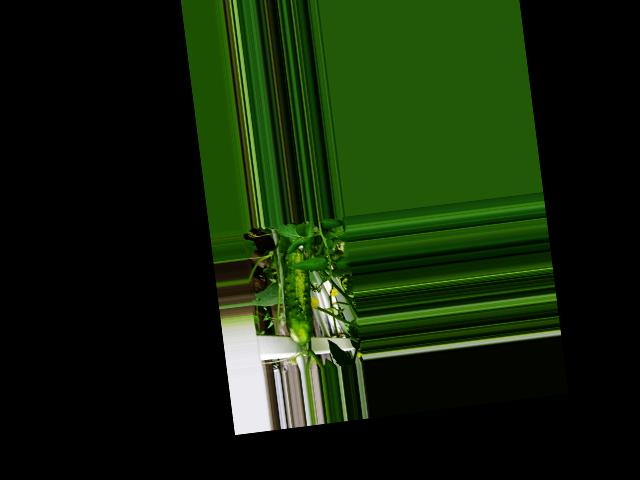cucumber: (277, 248, 316, 346)
